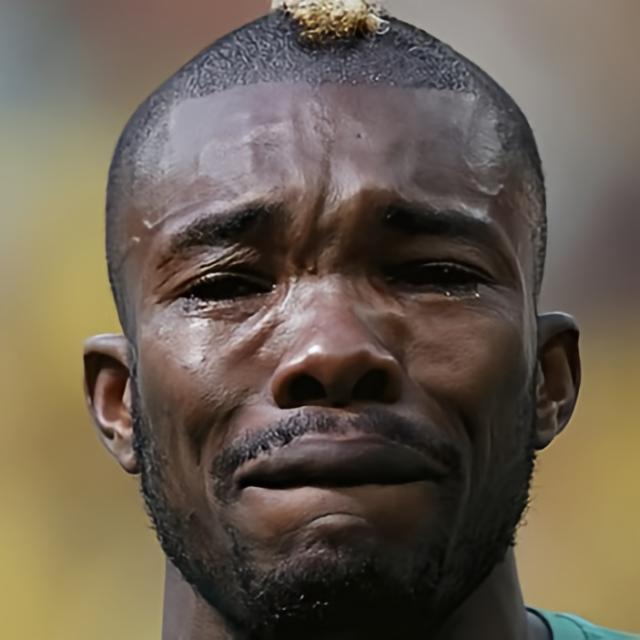sad: (130, 63, 529, 620)
